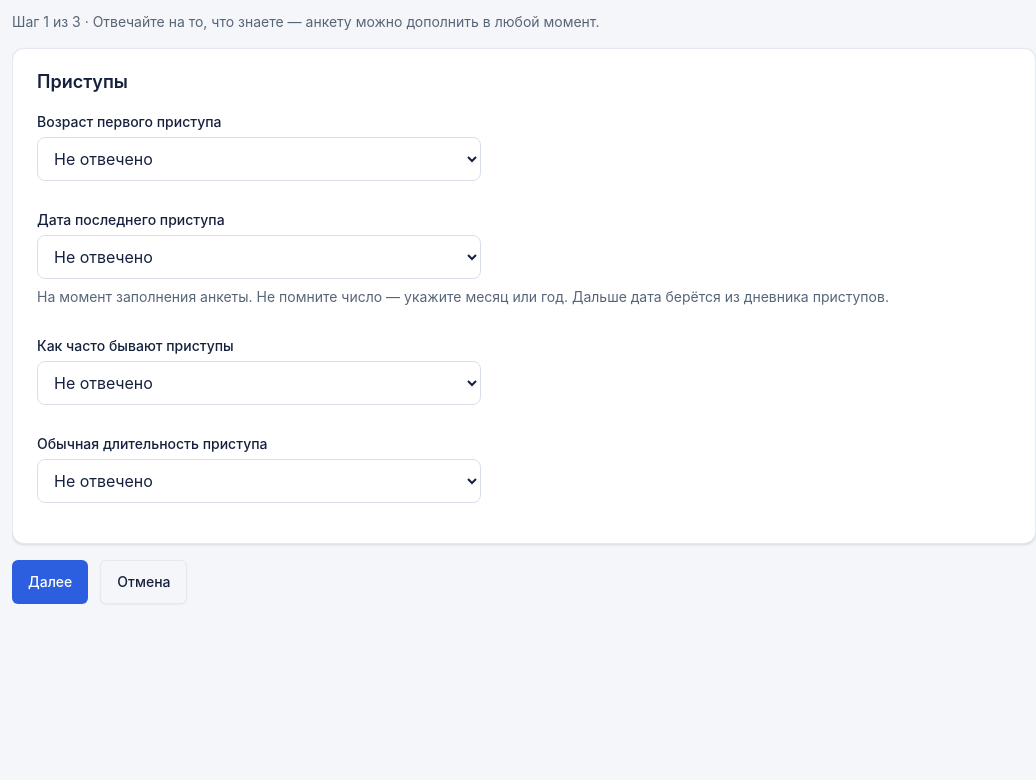
it: свобода от приступов измеряется сроком › не пускает дальше, пока не указана дата последнего приступа
This screenshot has width=1036, height=780.
Step 1. Select "Приступов нет" in the dropdown labelled "Как часто бывают приступы" → (259, 383), box x1=37 y1=361 x2=481 y2=405
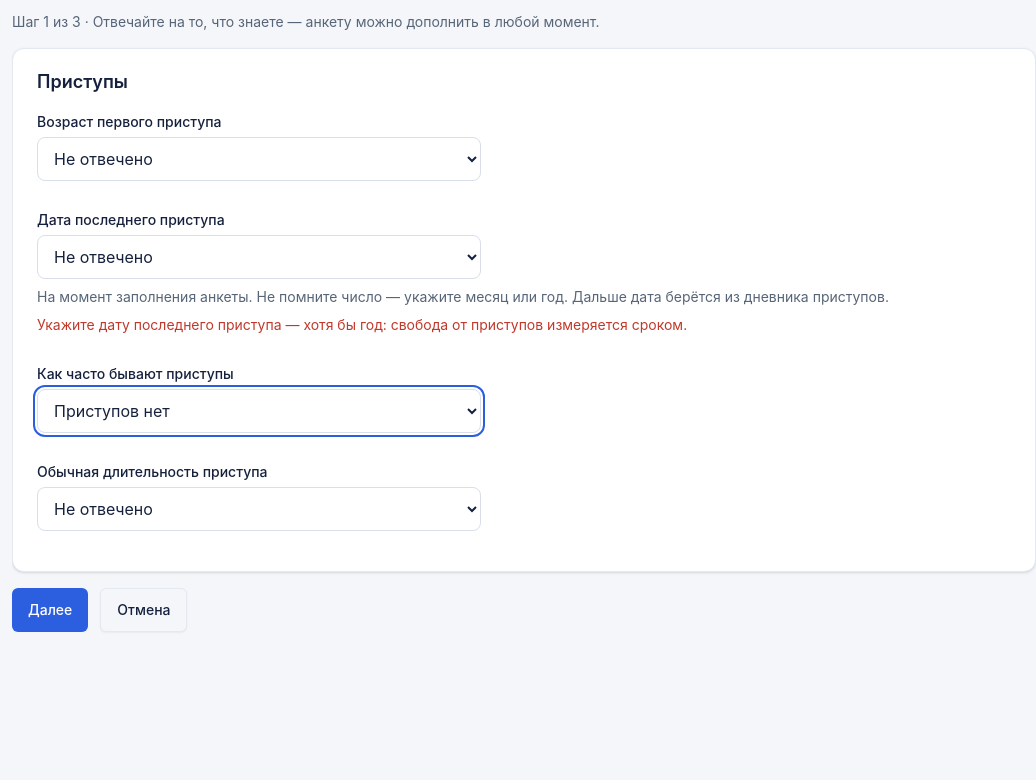
Step 2. Click the button "Далее" → click(50, 610), box x1=12 y1=588 x2=88 y2=632
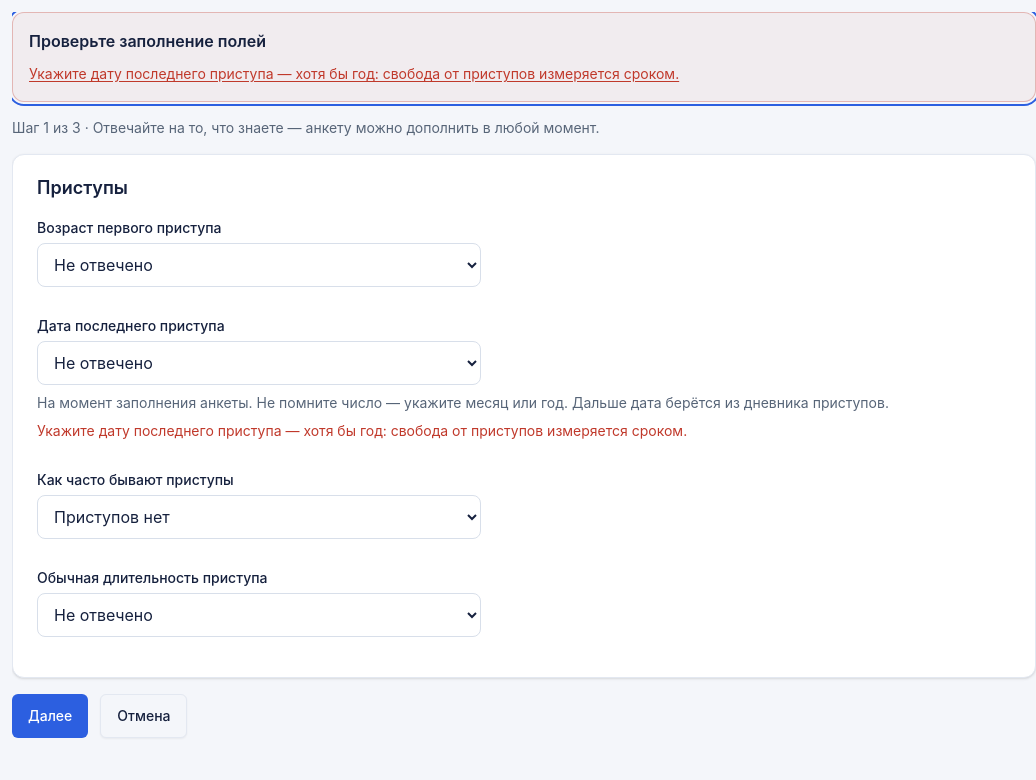
Check: the number of links "Укажите дату последнего приступа — хотя бы год: свобода от приступов измеряется сроком." is 2, box x1=29 y1=65 x2=679 y2=82; x1=37 y1=422 x2=687 y2=439
